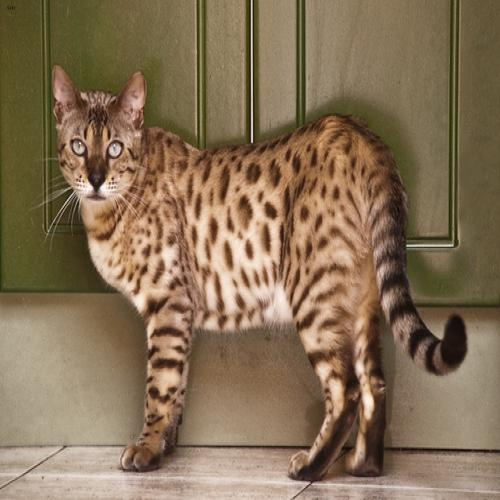bengal: (39, 56, 156, 223)
